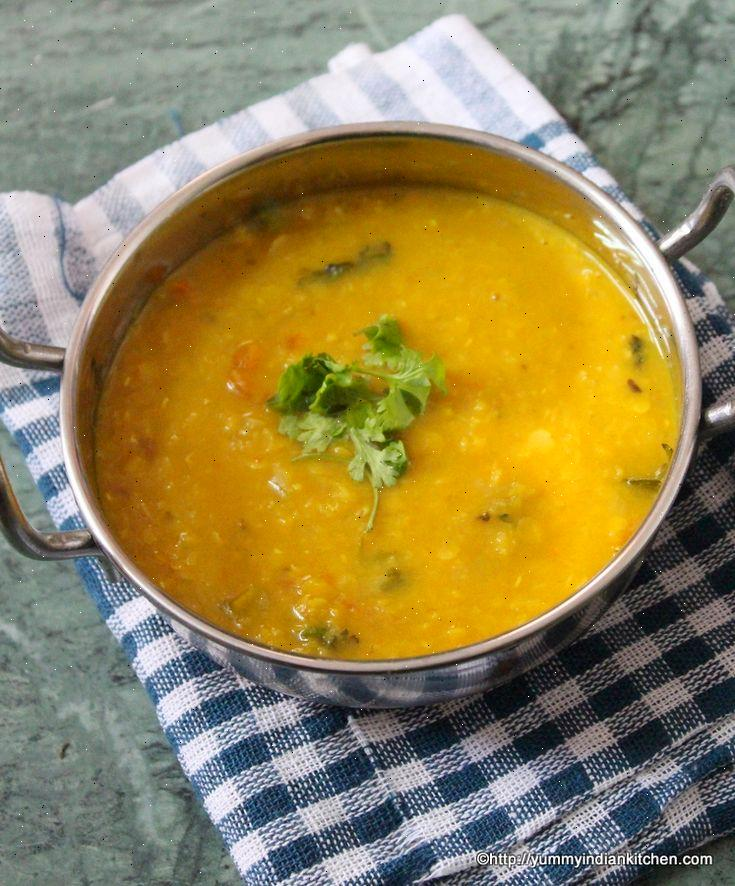daal: (106, 222, 664, 658)
